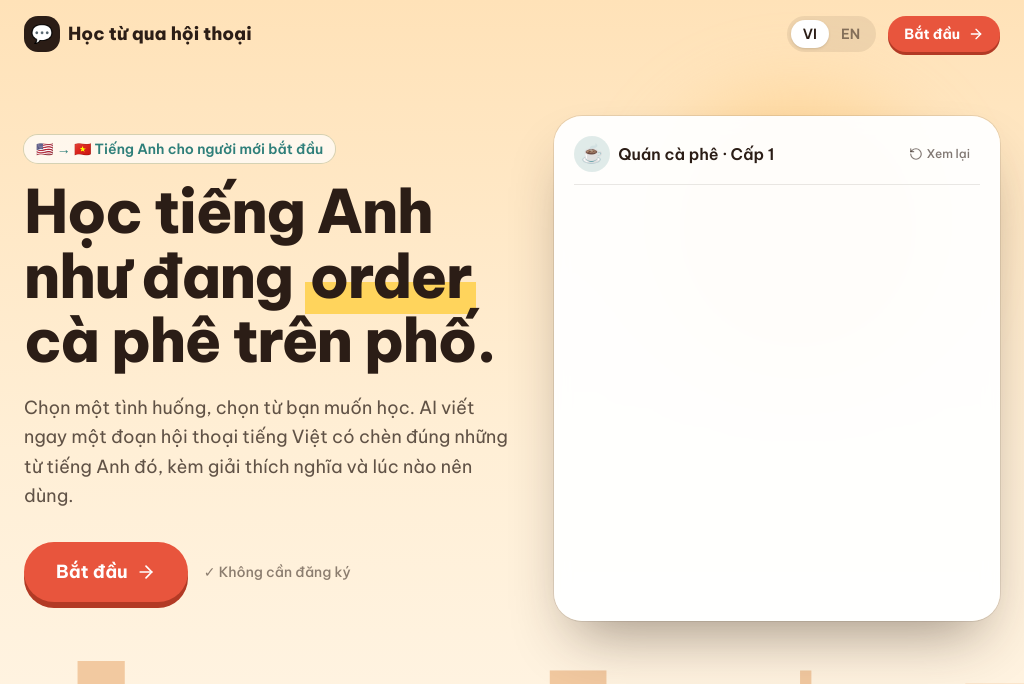
Scenario: App › starts a new game at the chosen level
Click the button "Bắt đầu" in the row of "Học từ qua hội thoại" at (944, 34), box [888,16,1000,52]
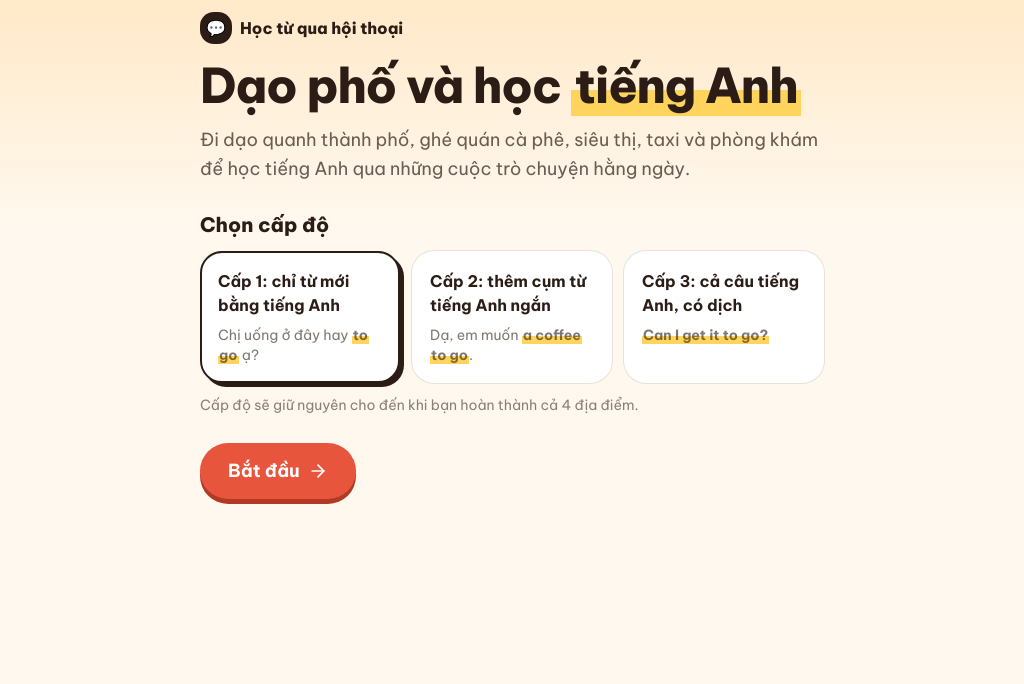
Click the button "Cấp 2" at (512, 317), box [412,251,612,383]
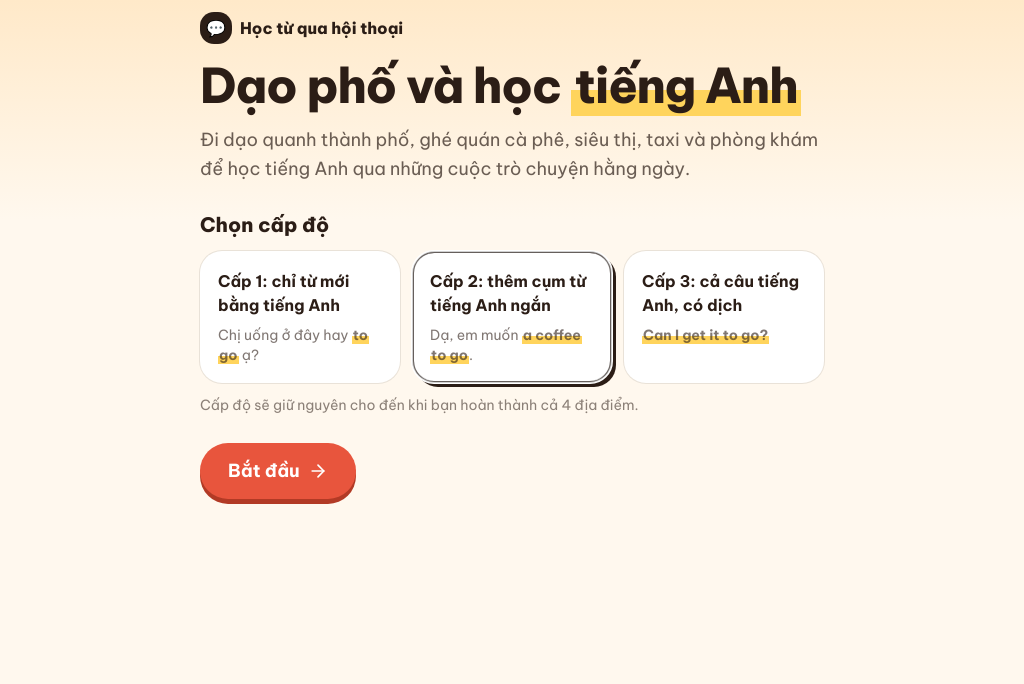
Click the button "Bắt đầu" at (278, 471), box [200,443,356,499]
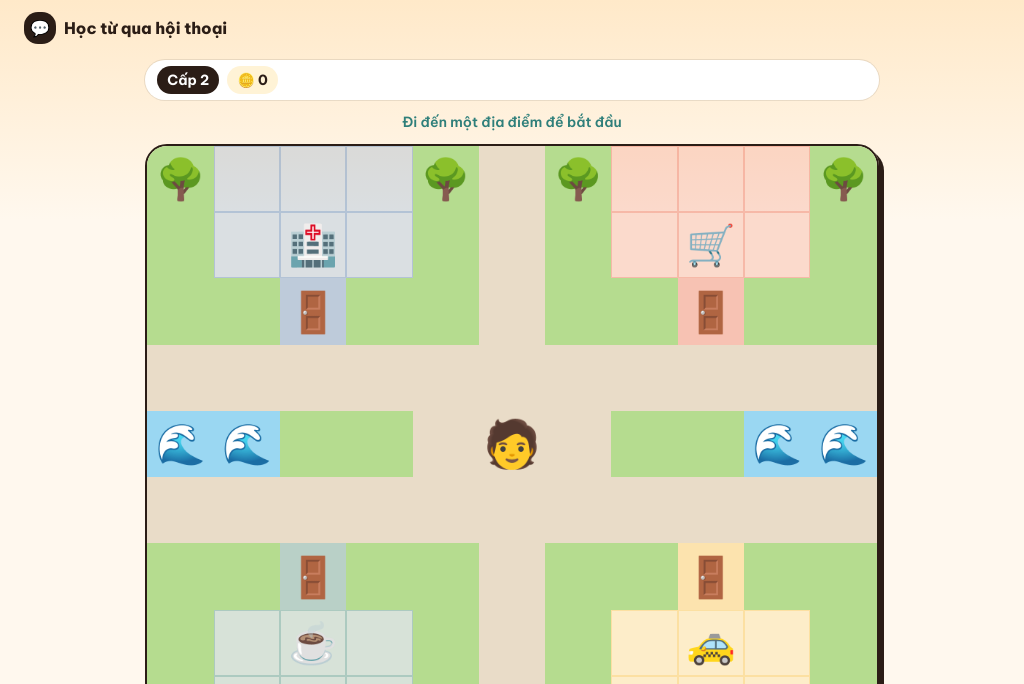
Expected: the text "Cấp 2" is shown, [157,66,219,94]
Expected: the text "Đi đến một địa điểm để bắt đầu" is shown, [402,113,622,131]
